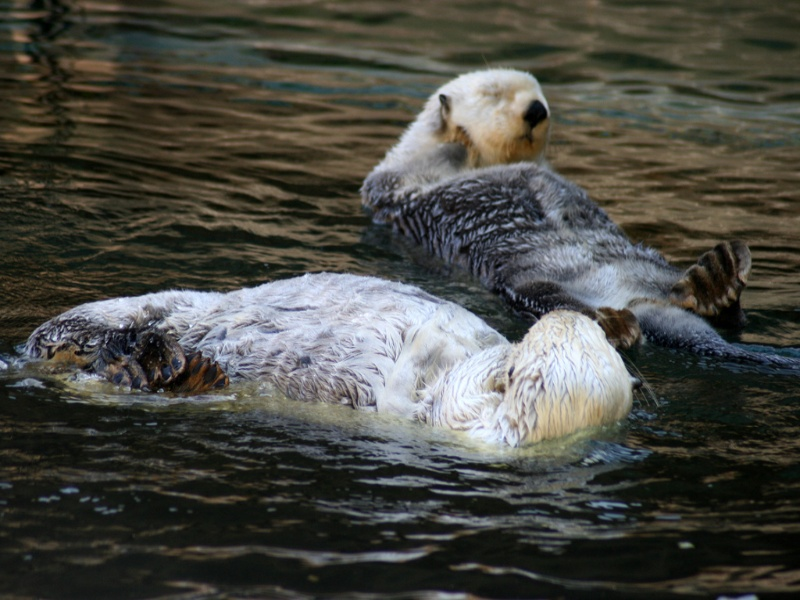minkish: (1, 253, 649, 481), (358, 61, 795, 376)
